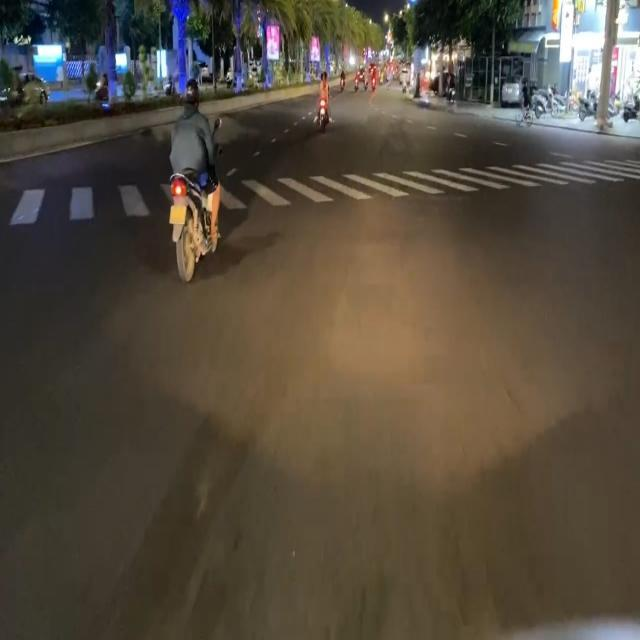walk-crossing: (221, 155, 640, 209), (0, 173, 164, 218)
